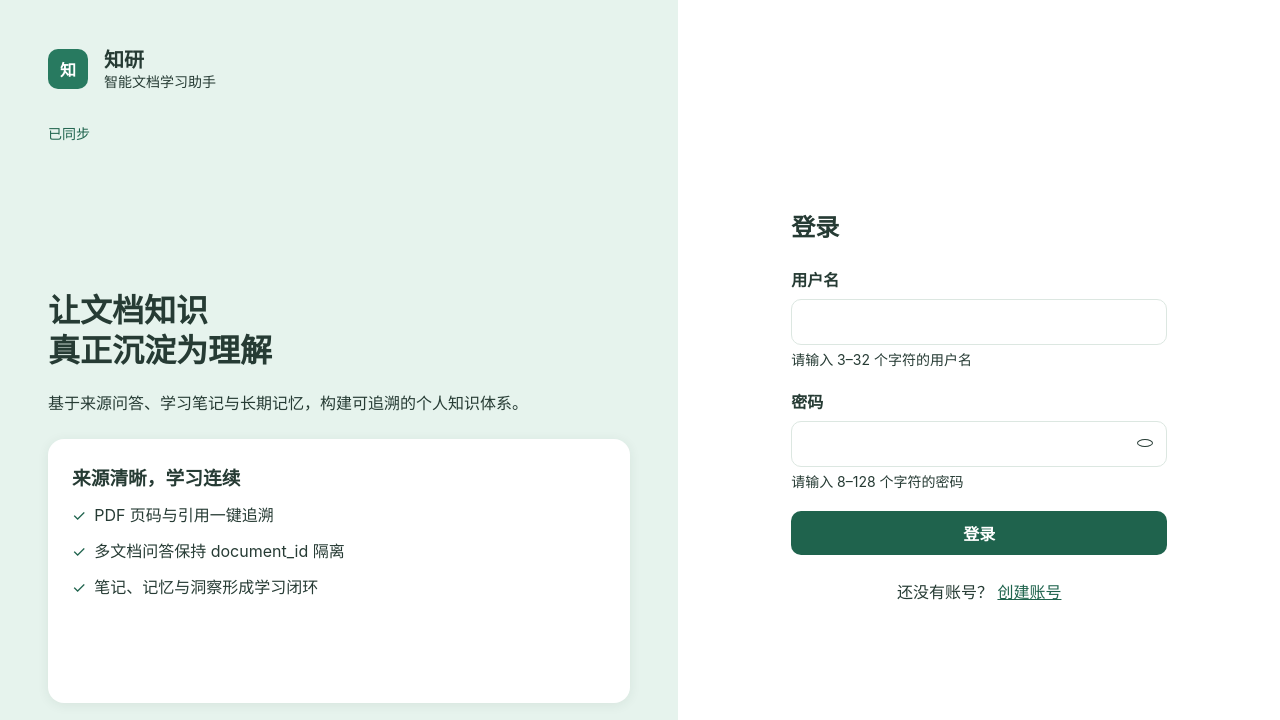
Test: AuthProvider › shows and disables the pending login action
In the field labelled "用户名": coordinates (979, 322) [791,299,1167,345], type "reader"
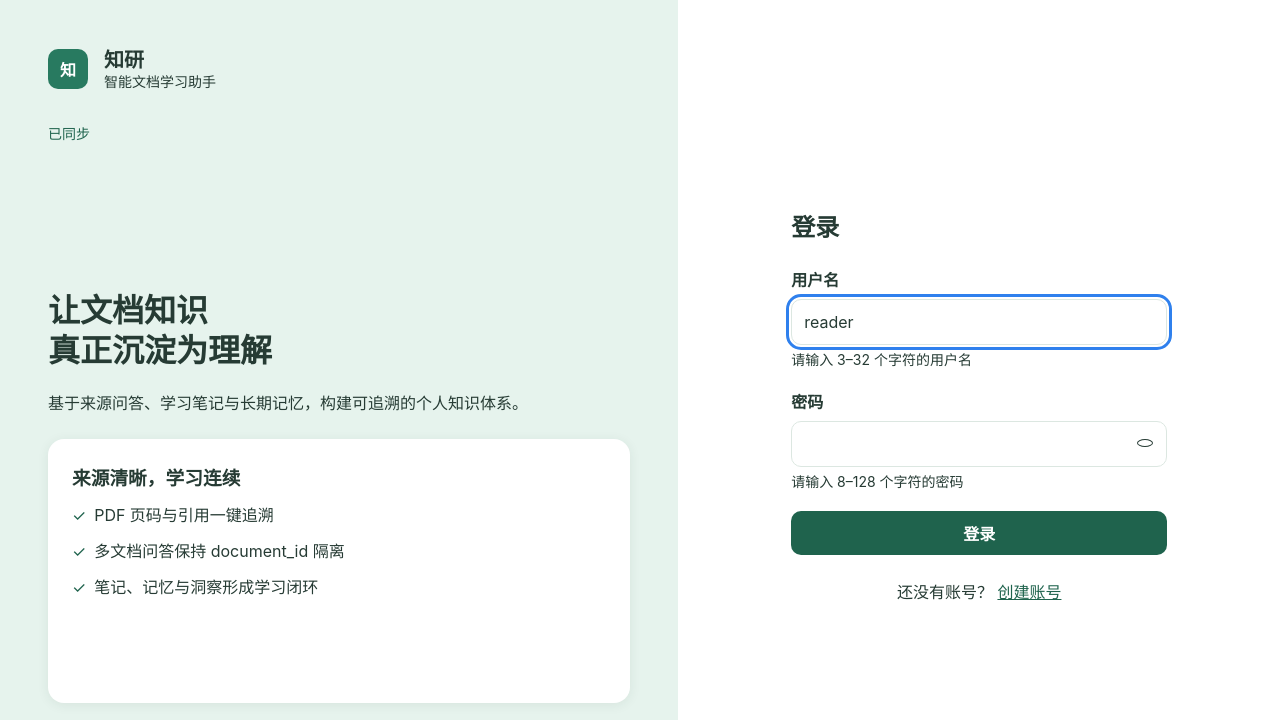
In the password field labelled "密码": coordinates (979, 444) [791,421,1167,467], type "correct horse battery"
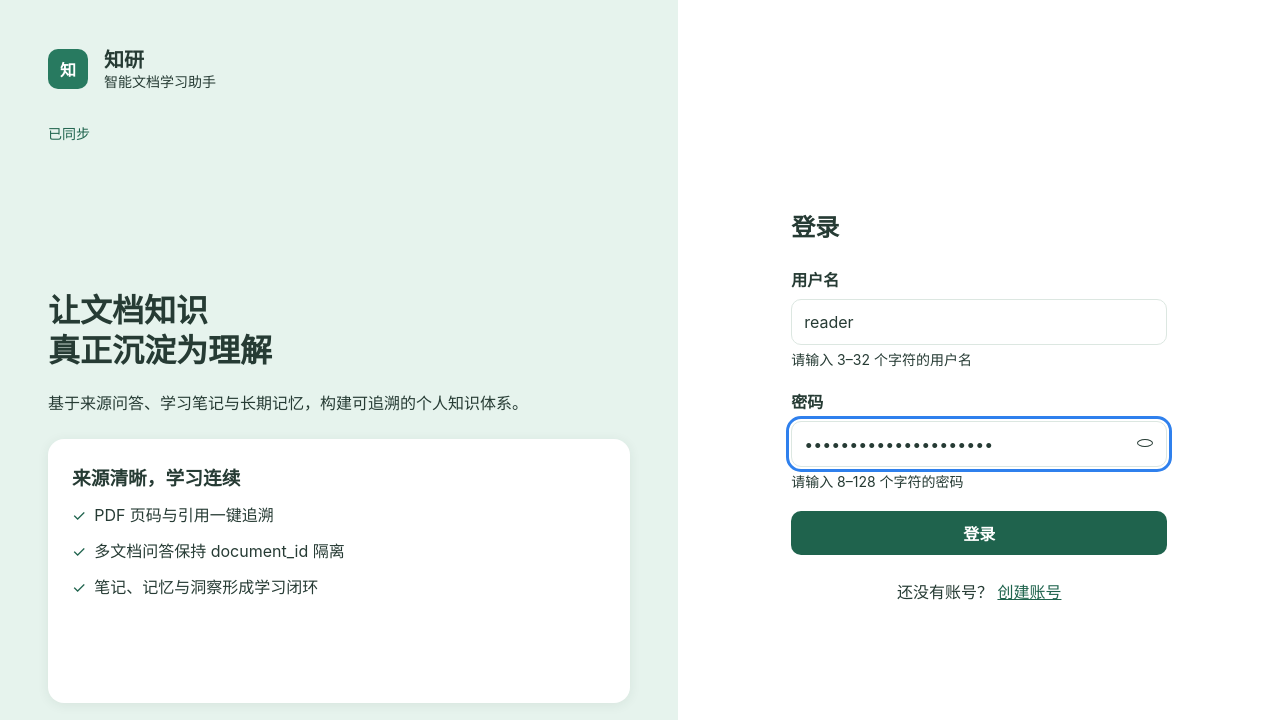
Click the button "登录": coordinates (979, 533) [791,511,1167,555]
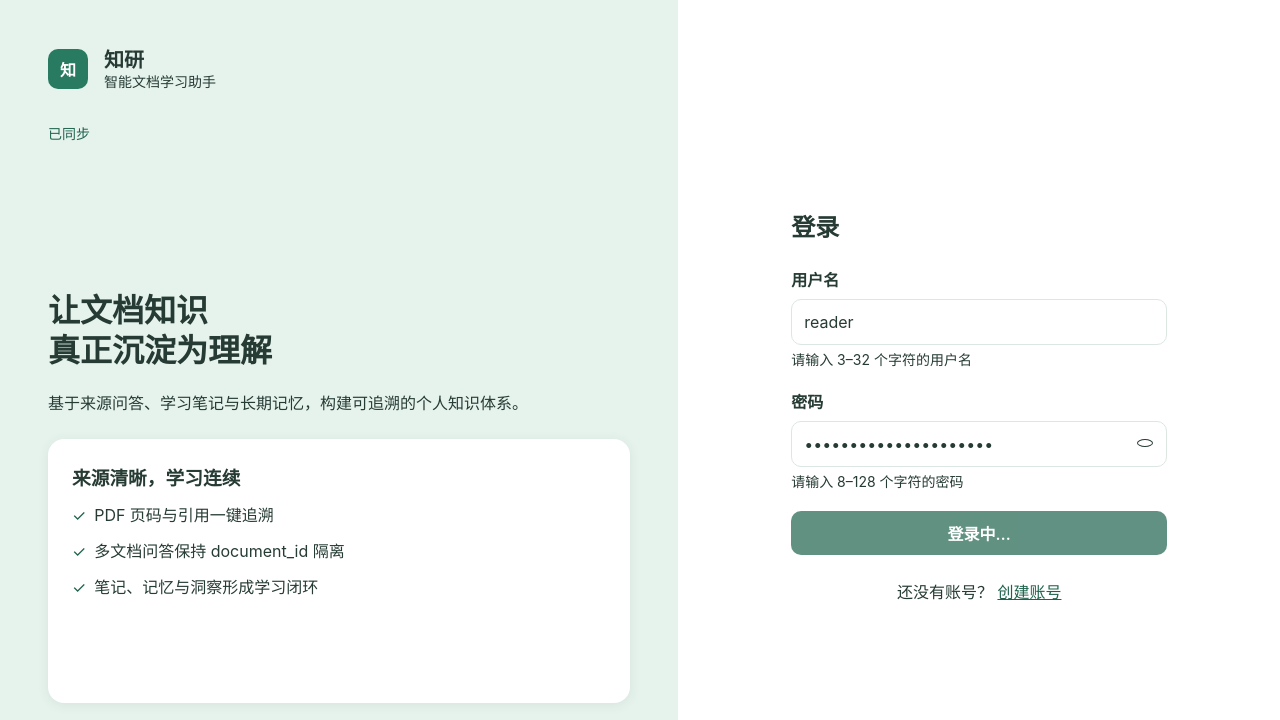
Now the button "登录中…" is disabled, box [791,511,1167,555]
